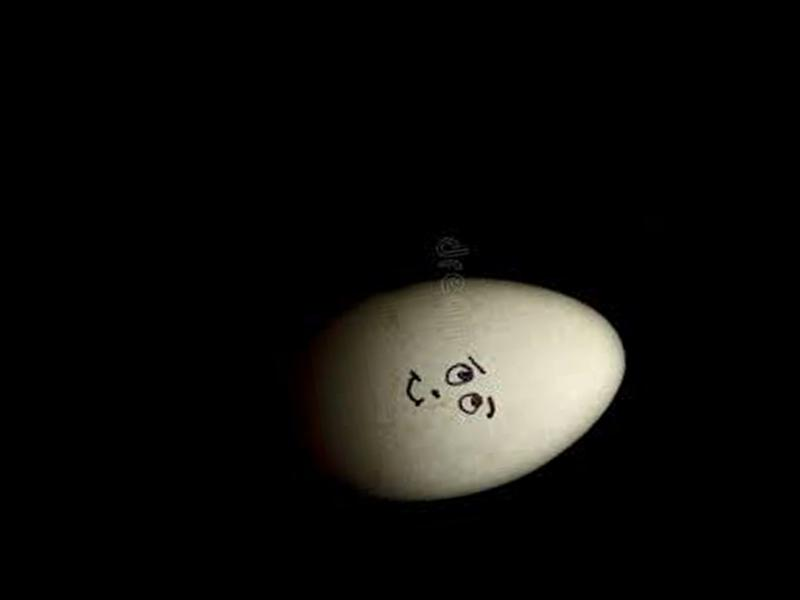Eggs: (293, 255, 643, 515)
